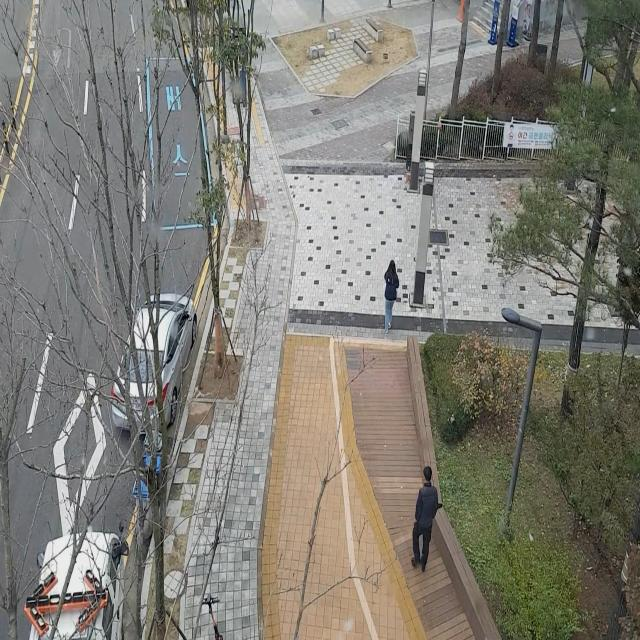Car: (103, 266, 208, 449)
Truck: (20, 491, 125, 640)
